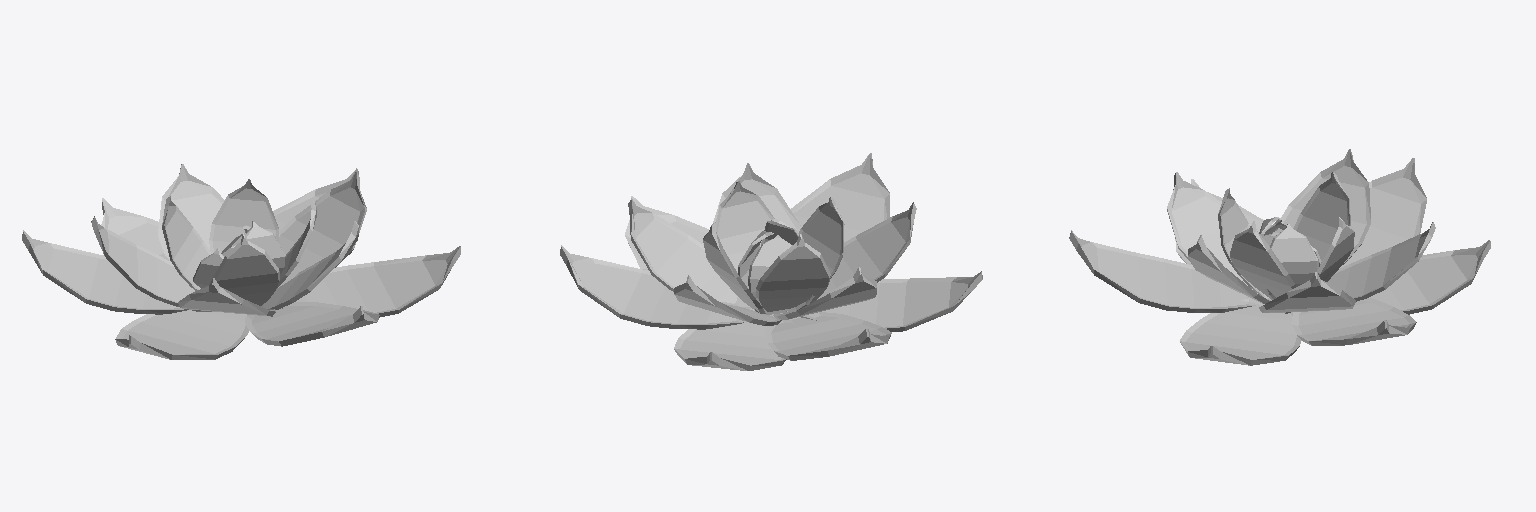
File: aloe.obj
3 views of the same model, side by side, from view 1: azimuth 30°, elevation 25°; view 2: azimuth 150°, elevation 25°; view 3: azimuth 270°, elevation 25° (orthographic).
Parts seen in each view (by area): view 1: Aloe_Muster_groß_Cube.025; view 2: Aloe_Muster_groß_Cube.025; view 3: Aloe_Muster_groß_Cube.025.
Part boxes in pixels (x1,y1,x2,y2): Aloe_Muster_groß_Cube.025: (22,164,460,359); Aloe_Muster_groß_Cube.025: (560,153,982,370); Aloe_Muster_groß_Cube.025: (1069,149,1490,365).
Bounding box in the file's own units: 5.01 × 1.56 × 5.36.